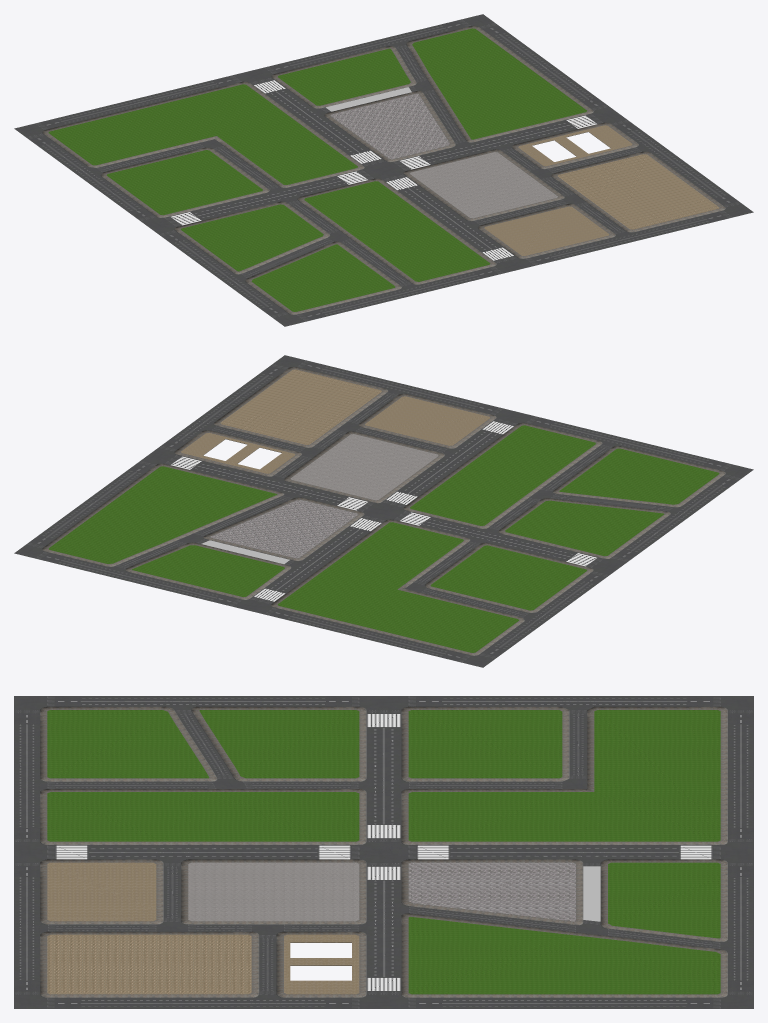
File: ROAD_CityBlockB.obj
3 views of the same model, one above another, from view 1: azimuth 30°, elevation 25°; view 2: azimuth 150°, elevation 25°; view 3: azimuth 270°, elevation 25° (orthographic). The views are drawn at different scales.
Visible parts, largest first — view 1: ROAD_CityBlockB Mesh; view 2: ROAD_CityBlockB Mesh; view 3: ROAD_CityBlockB Mesh.
Part boxes in pixels (left/top/right/bottom): ROAD_CityBlockB Mesh: left=14, top=14, right=753, bottom=326; ROAD_CityBlockB Mesh: left=14, top=355, right=753, bottom=667; ROAD_CityBlockB Mesh: left=14, top=696, right=753, bottom=1008.
Size of the model in its own units: 984 by 0.4961 by 984.
